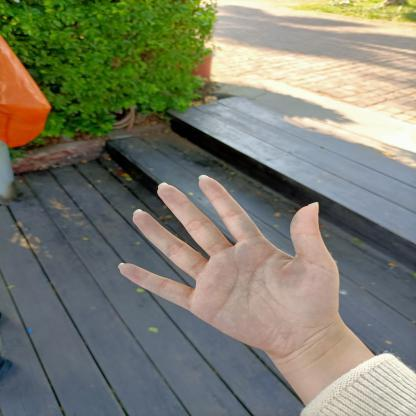bare_hand: (107, 162, 352, 358)
